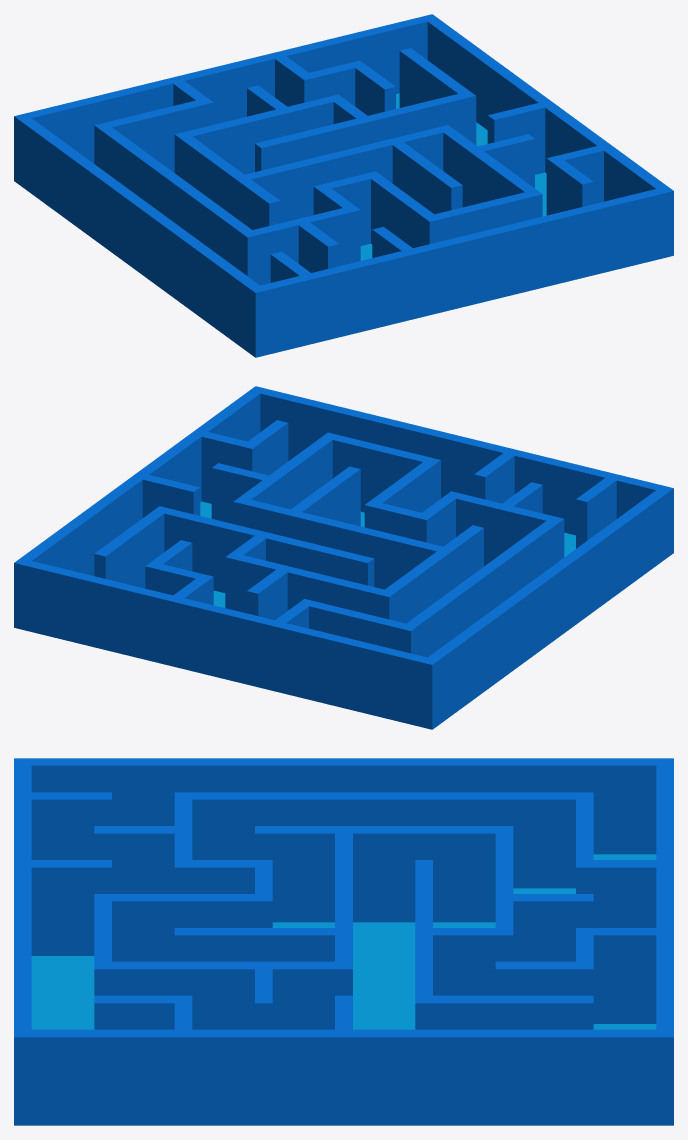
File: Level6Ground.FBX
3 views of the same model, one above another, from view 1: azimuth 30°, elevation 25°; view 2: azimuth 150°, elevation 25°; view 3: azimuth 270°, elevation 25° (orthographic). The views are drawn at different scales.
Visible parts, largest first — view 1: pPlane2; view 2: pPlane2; view 3: pPlane2.
Boxes of the visible parts, <box> form: pPlane2: <box>14,14,673,357</box>; pPlane2: <box>14,386,673,729</box>; pPlane2: <box>14,758,673,1125</box>.
Size of the model in its own units: 189 by 28 by 189.
